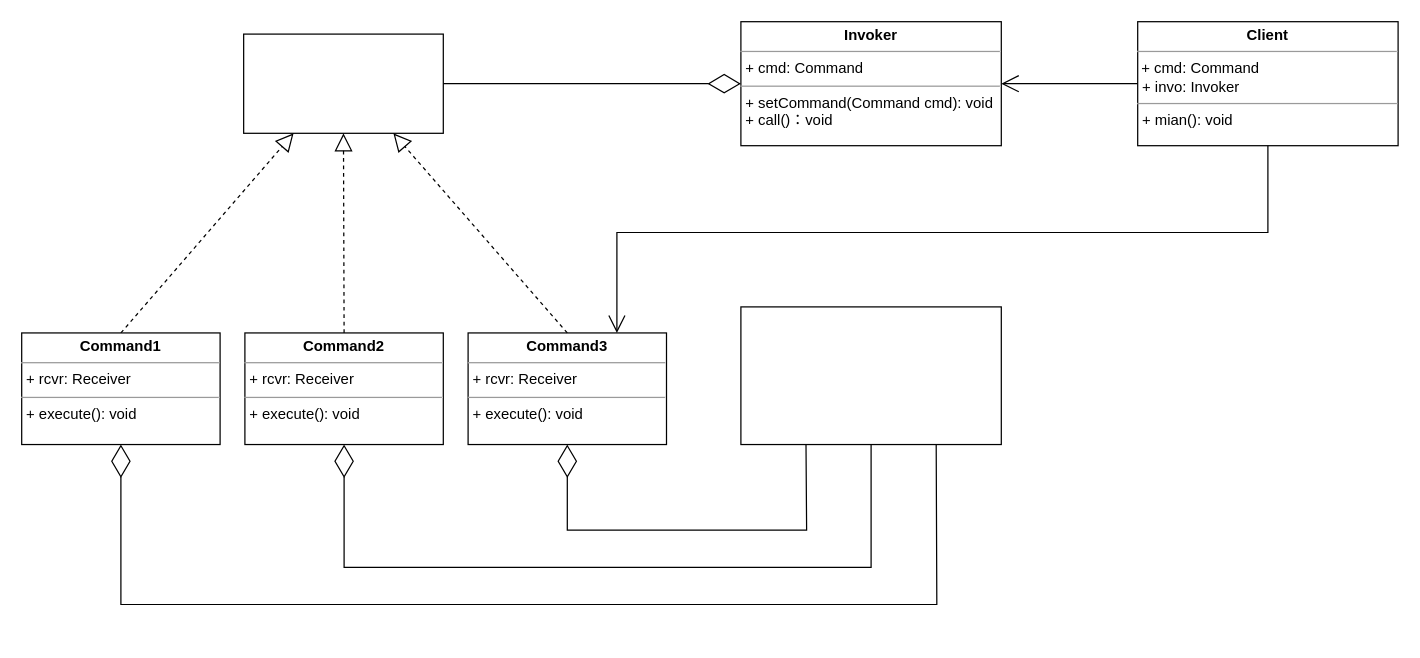
Some shapes in this 1420 by 658 pixel diagram are drawn without their labels. The shapes that lost their labels are listed below. From the top down, each one's centre as x and y in pixels, then its label:
(x=342, y=83): <<Interface>> Command + execute(): void
(x=870, y=375): Receiver + name: string + cmd1(): void + cmd2(): void + cmd3(): void
